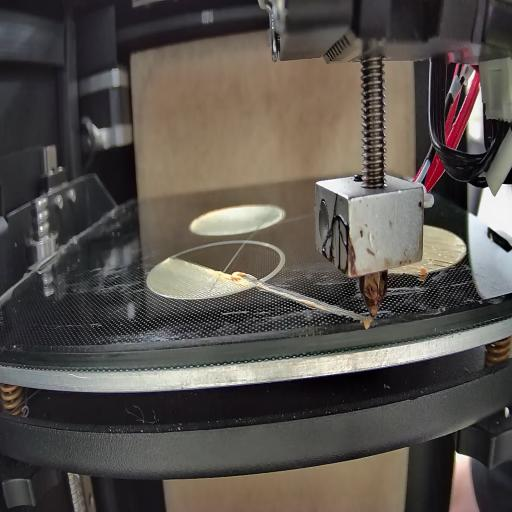under_extrusion: (225, 270, 262, 292), (426, 257, 452, 272), (452, 241, 466, 251)
